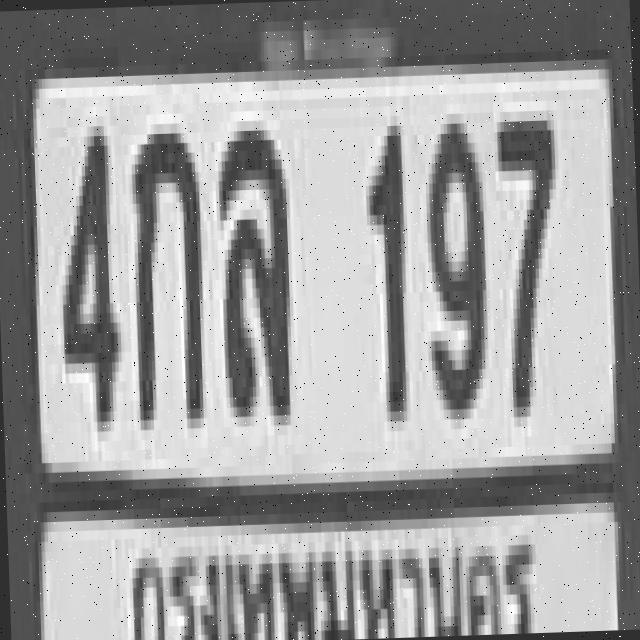1: (362, 110, 407, 407)
10GorGai: (126, 117, 203, 416)
4: (52, 110, 116, 418)
45LorLing: (213, 120, 290, 408)
7: (493, 110, 560, 408)
9: (419, 113, 486, 410)
